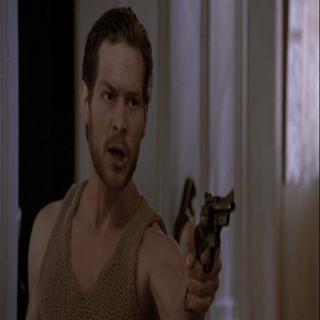gun: (182, 182, 239, 314)
